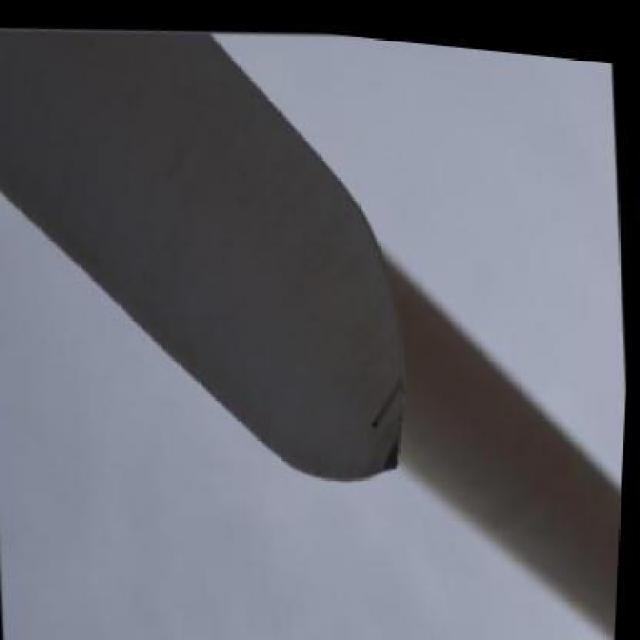Crack: (370, 373, 402, 418)
